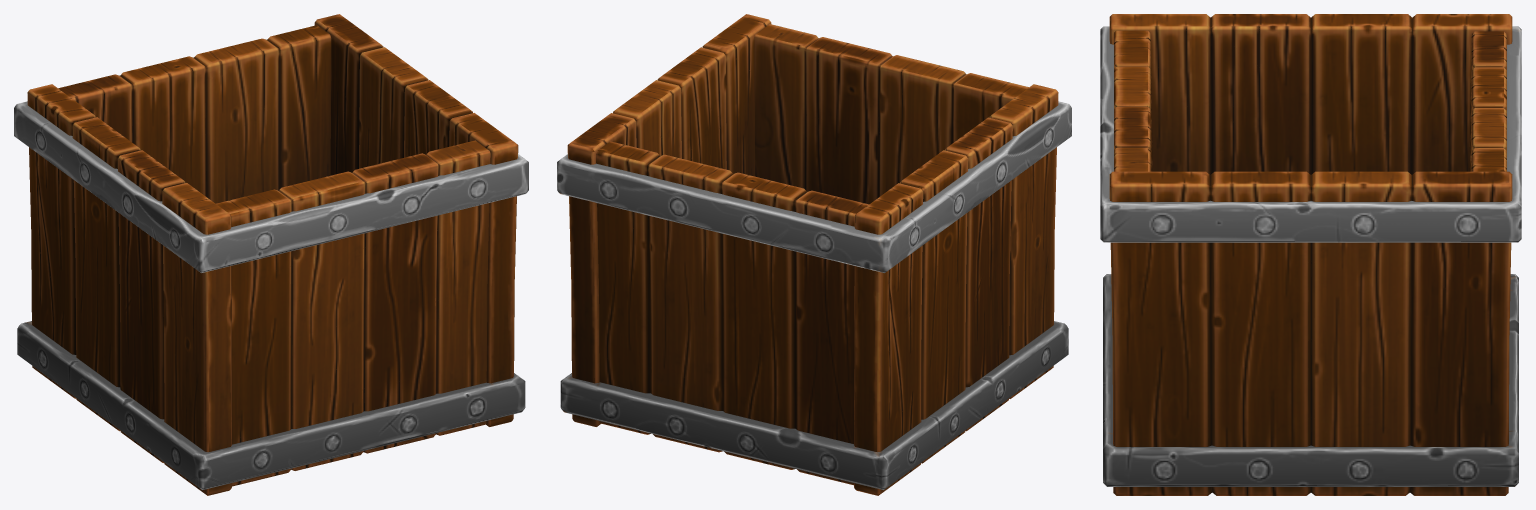
File: FIG0110013.fbx
3 views of the same model, side by side, from view 1: azimuth 30°, elevation 25°; view 2: azimuth 150°, elevation 25°; view 3: azimuth 270°, elevation 25° (orthographic). The views are drawn at different scales.
Parts seen in each view (by area): view 1: smFIG0110013; view 2: smFIG0110013; view 3: smFIG0110013.
Part boxes in pixels (<box>): smFIG0110013: <box>14,14,528,495</box>; smFIG0110013: <box>557,14,1071,495</box>; smFIG0110013: <box>1100,14,1521,495</box>.
Bounding box in the file's own units: 68.1 × 54.94 × 66.84.
1 material, 1 textured.
